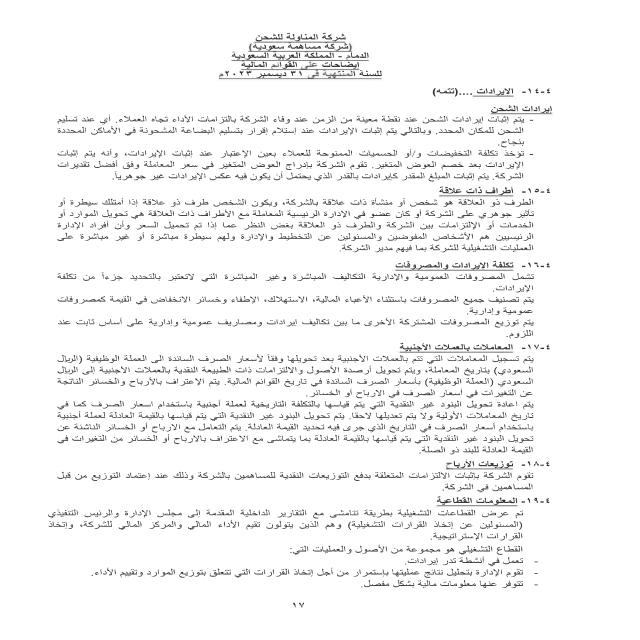notes: (234, 61, 361, 70)
text: (28, 100, 565, 591)
